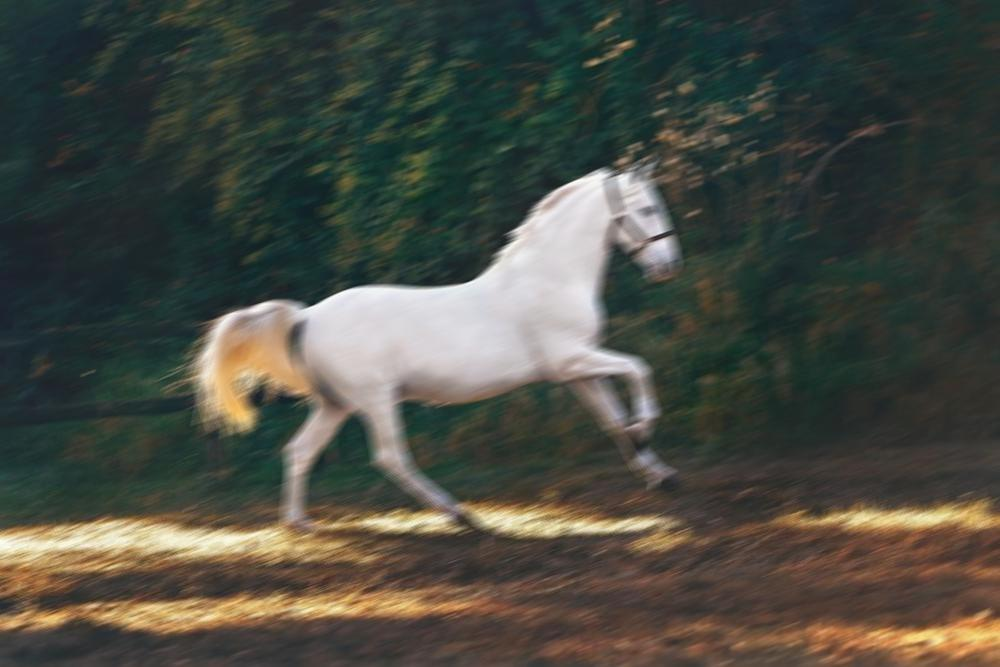horse: (167, 149, 696, 546)
